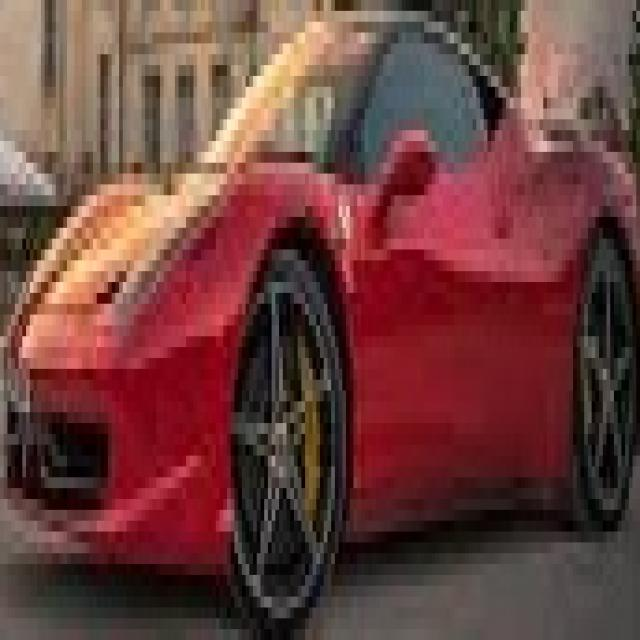red: (8, 20, 640, 595)
